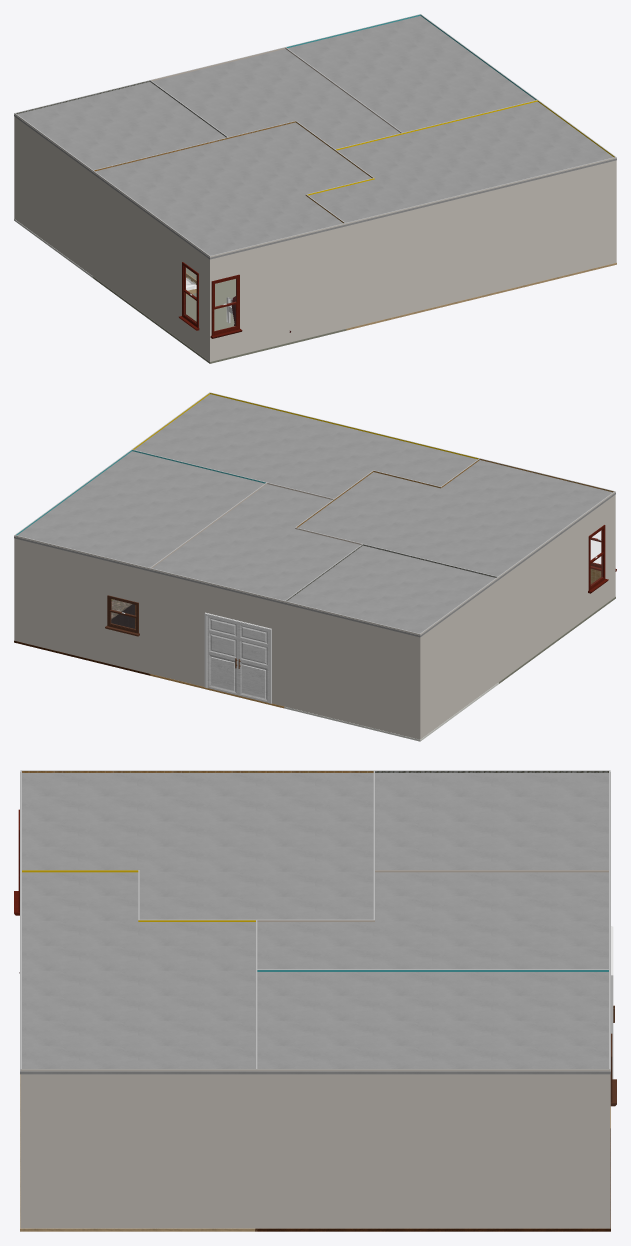
Rendered from ProcTHOR-Train-83.glb.
3 views of the same model, one above another, from view 1: azimuth 30°, elevation 25°; view 2: azimuth 150°, elevation 25°; view 3: azimuth 270°, elevation 25° (orthographic). The views are drawn at different scales.
Visible parts, largest first — view 1: WallInside#wall|exterior|0.00|9.93|7.94|9.93, Ceiling#room|5|c, Ceiling#room|6|c, Ceiling#room|2|c, WallInside#wall|exterior|7.94|9.93|11.91|9.93, Ceiling#room|4|c, WallInside#wall|exterior|11.91|3.97|11.91|9.93, Ceiling#room|3|c, WallInside#wall|exterior|11.91|0.00|11.91|3.97, Floor#room|5|f, Window_Hung_32x60 (×2), Floor#room|6|f; view 2: Ceiling#room|5|c, Ceiling#room|6|c, Ceiling#room|2|c, WallInside#wall|exterior|7.94|0.00|11.91|0.00, WallInside#wall|exterior|0.00|0.00|3.97|0.00, Ceiling#room|4|c, WallInside#wall|exterior|11.91|3.97|11.91|9.93, Ceiling#room|3|c, WallInside#wall|exterior|3.97|0.00|7.94|0.00, WallInside#wall|exterior|11.91|0.00|11.91|3.97, Doorway_Door_8b, Doorway_Door_8a (+6 smaller); view 3: WallInside#wall|exterior|0.00|0.00|0.00|5.96, Ceiling#room|5|c, Ceiling#room|6|c, WallInside#wall|exterior|0.00|5.96|0.00|9.93, Ceiling#room|2|c, Ceiling#room|4|c, Ceiling#room|3|c, Floor#room|2|f, Floor#room|6|f, WallInside#wall|2|3.97|0.00|3.97|5.96, WallInside#wall|5|11.91|3.97|11.91|9.93, WallInside#wall|3|11.91|0.00|11.91|3.97 (+1 smaller).
Boxes of the visible parts, left/top/right/bottom form: WallInside#wall|exterior|0.00|9.93|7.94|9.93: left=345, top=157, right=616, bottom=328; Ceiling#room|5|c: left=93, top=122, right=371, bottom=259; Ceiling#room|6|c: left=308, top=101, right=616, bottom=226; Ceiling#room|2|c: left=285, top=16, right=535, bottom=134; WallInside#wall|exterior|7.94|9.93|11.91|9.93: left=210, top=223, right=345, bottom=361; Ceiling#room|4|c: left=152, top=49, right=399, bottom=150; WallInside#wall|exterior|11.91|3.97|11.91|9.93: left=92, top=170, right=209, bottom=361; Ceiling#room|3|c: left=14, top=82, right=225, bottom=173; WallInside#wall|exterior|11.91|0.00|11.91|3.97: left=14, top=113, right=92, bottom=275; Floor#room|5|f: left=93, top=267, right=346, bottom=363; Window_Hung_32x60 (×2): left=179, top=262, right=242, bottom=338; Floor#room|6|f: left=345, top=263, right=616, bottom=330; Ceiling#room|5|c: left=298, top=460, right=615, bottom=579; Ceiling#room|6|c: left=134, top=394, right=477, bottom=499; Ceiling#room|2|c: left=14, top=451, right=264, bottom=571; WallInside#wall|exterior|7.94|0.00|11.91|0.00: left=284, top=601, right=420, bottom=739; WallInside#wall|exterior|0.00|0.00|3.97|0.00: left=14, top=535, right=150, bottom=673; Ceiling#room|4|c: left=149, top=484, right=360, bottom=604; WallInside#wall|exterior|11.91|3.97|11.91|9.93: left=498, top=491, right=615, bottom=681; Ceiling#room|3|c: left=284, top=545, right=498, bottom=637; WallInside#wall|exterior|3.97|0.00|7.94|0.00: left=149, top=568, right=284, bottom=706; WallInside#wall|exterior|11.91|0.00|11.91|3.97: left=420, top=577, right=498, bottom=739; Doorway_Door_8b: left=207, top=616, right=238, bottom=695; Doorway_Door_8a: left=238, top=623, right=269, bottom=702; WallInside#wall|exterior|0.00|0.00|0.00|5.96: left=256, top=1069, right=610, bottom=1228; Ceiling#room|5|c: left=20, top=772, right=375, bottom=922; Ceiling#room|6|c: left=20, top=872, right=257, bottom=1074; WallInside#wall|exterior|0.00|5.96|0.00|9.93: left=20, top=1069, right=256, bottom=1228; Ceiling#room|2|c: left=255, top=971, right=610, bottom=1074; Ceiling#room|4|c: left=255, top=872, right=610, bottom=971; Ceiling#room|3|c: left=373, top=772, right=610, bottom=872; Floor#room|2|f: left=255, top=1128, right=610, bottom=1231; Floor#room|6|f: left=20, top=1074, right=256, bottom=1231; WallInside#wall|2|3.97|0.00|3.97|5.96: left=256, top=969, right=608, bottom=971; WallInside#wall|5|11.91|3.97|11.91|9.93: left=22, top=770, right=373, bottom=772; WallInside#wall|3|11.91|0.00|11.91|3.97: left=375, top=770, right=609, bottom=772.
Size of what is drawn, in the model's own units: 12.05 by 3.01 by 10.17.
Materials: 312 (137 with a texture image).
